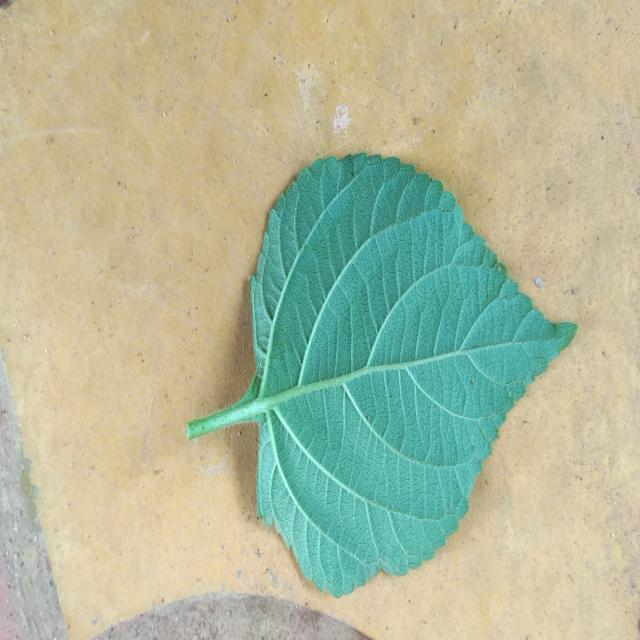Lantana: (186, 153, 576, 596)
